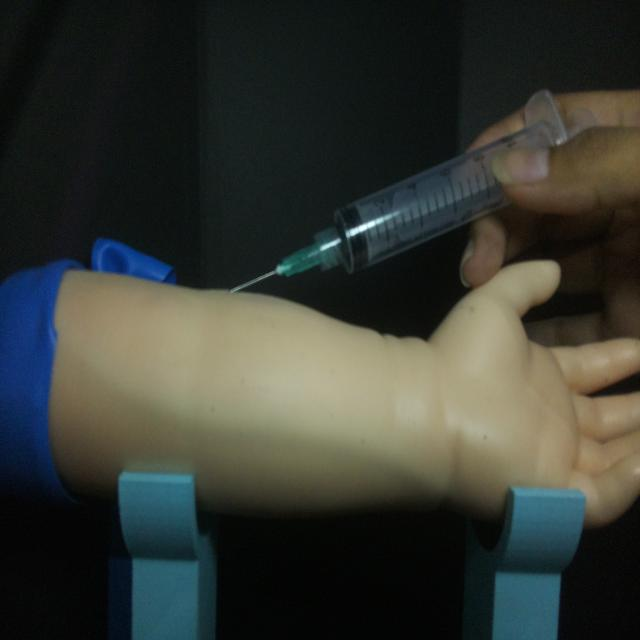21deg: (224, 90, 571, 298)
